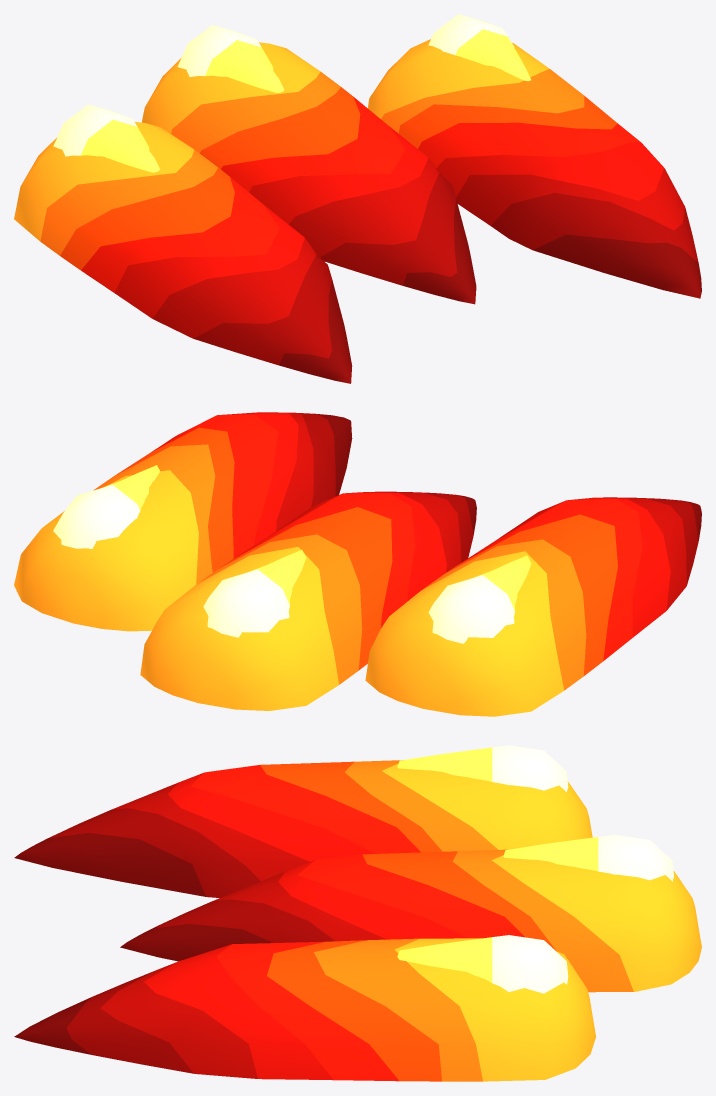
File: shot_pulse_3.glb
The picture shows the model from 3 angles, top to bottom: view 1: azimuth 30°, elevation 25°; view 2: azimuth 150°, elevation 25°; view 3: azimuth 270°, elevation 25°; orthographic projection. The views are drawn at different scales.
Parts seen in each view (by area): view 1: shot_pulse_3_bolt1, shot_pulse_3_bolt2, shot_pulse_3_bolt0, shot_pulse_3_core1, shot_pulse_3_core0, shot_pulse_3_core2; view 2: shot_pulse_3_bolt1, shot_pulse_3_bolt0, shot_pulse_3_bolt2, shot_pulse_3_core0, shot_pulse_3_core1, shot_pulse_3_core2; view 3: shot_pulse_3_bolt2, shot_pulse_3_bolt1, shot_pulse_3_bolt0, shot_pulse_3_core2, shot_pulse_3_core1, shot_pulse_3_core0.
Part boxes in pixels (x1,y1,x2,y2): shot_pulse_3_bolt1: [14, 122, 352, 383]; shot_pulse_3_bolt2: [367, 39, 701, 298]; shot_pulse_3_bolt0: [141, 42, 476, 304]; shot_pulse_3_core1: [53, 104, 160, 172]; shot_pulse_3_core0: [177, 25, 284, 92]; shot_pulse_3_core2: [428, 14, 530, 81]; shot_pulse_3_bolt1: [365, 497, 701, 716]; shot_pulse_3_bolt0: [140, 491, 476, 710]; shot_pulse_3_bolt2: [14, 412, 352, 631]; shot_pulse_3_core0: [203, 550, 306, 637]; shot_pulse_3_core1: [428, 555, 531, 643]; shot_pulse_3_core2: [53, 465, 160, 548]; shot_pulse_3_bolt2: [14, 938, 595, 1081]; shot_pulse_3_bolt1: [14, 760, 592, 897]; shot_pulse_3_bolt0: [120, 849, 701, 992]; shot_pulse_3_core2: [397, 935, 568, 993]; shot_pulse_3_core1: [397, 745, 568, 791]; shot_pulse_3_core0: [503, 835, 673, 881].
Size of the model in its own units: 12 by 2.24 by 13.
